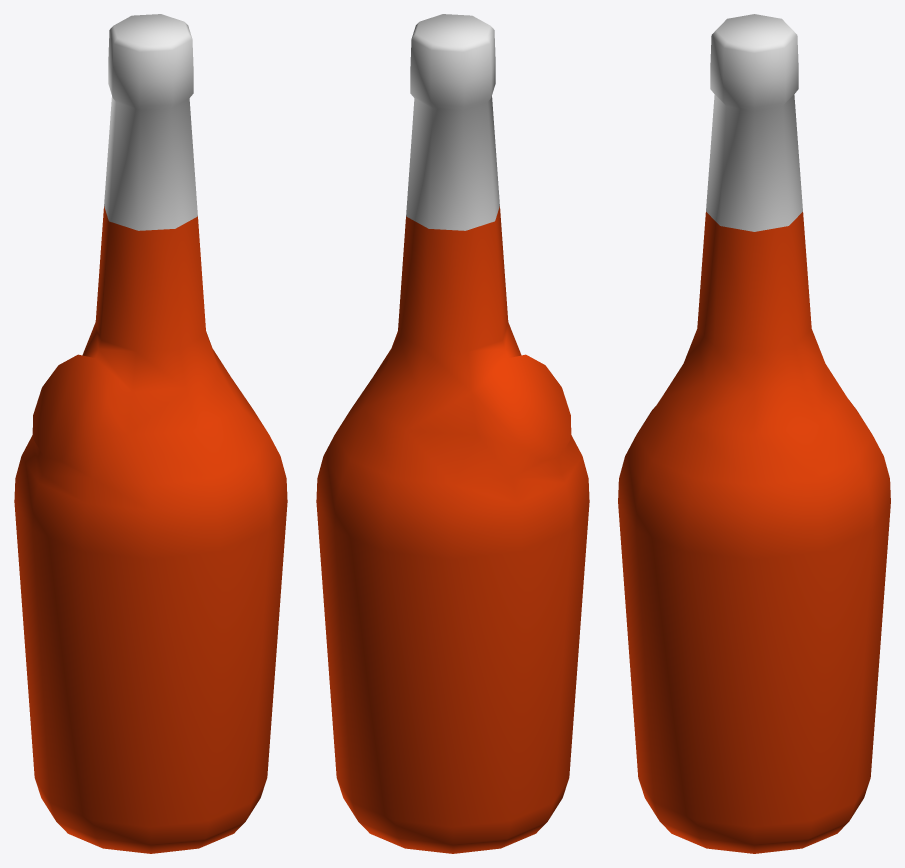
The model's file is OrangeWhiteLid.fbx.
3 renders of one model, left to right at view 1: azimuth 30°, elevation 25°; view 2: azimuth 150°, elevation 25°; view 3: azimuth 270°, elevation 25°, orthographic.
Parts seen in each view (by area): view 1: OrangeWhiteLid; view 2: OrangeWhiteLid; view 3: OrangeWhiteLid.
Boxes of the visible parts, box(x1,y1,x2,y2) form: OrangeWhiteLid: box(14, 14, 287, 853); OrangeWhiteLid: box(316, 14, 589, 853); OrangeWhiteLid: box(618, 14, 890, 853).
Size of the model in its own units: 8.9 by 28.19 by 8.9.
